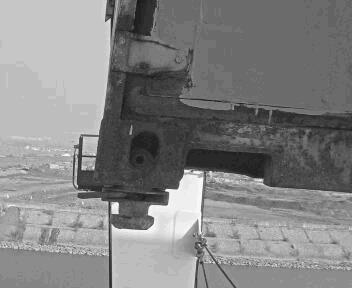twist_lock_1: (94, 184, 174, 237)
